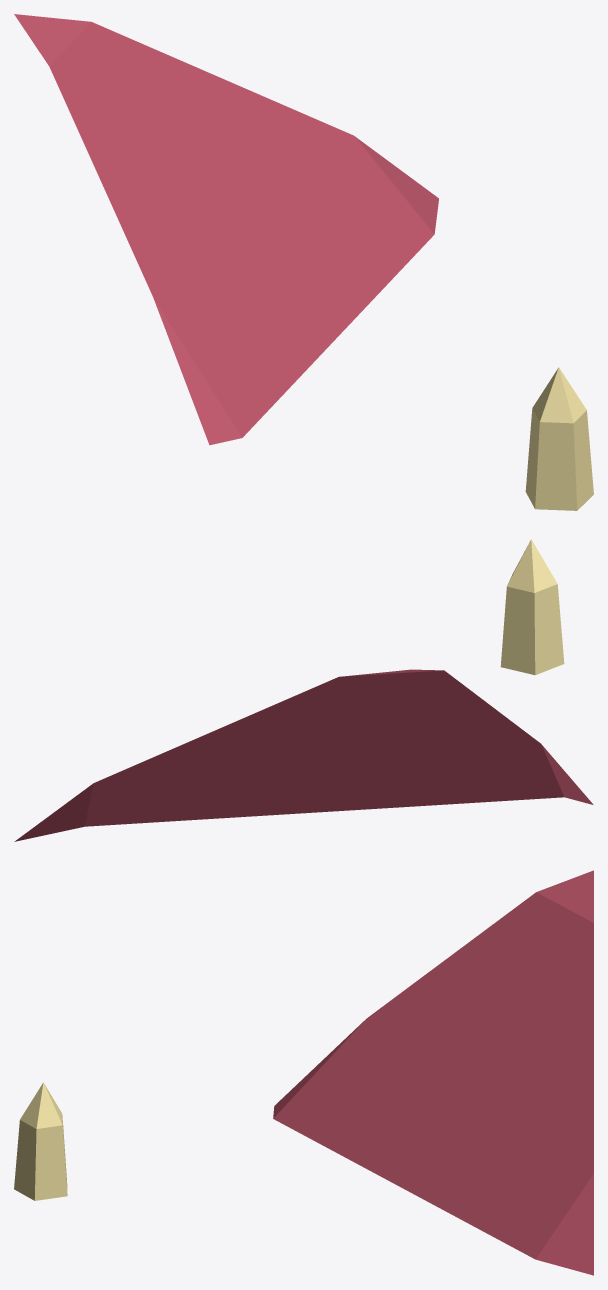
File: cell_118.obj
The picture shows the model from 3 angles, top to bottom: view 1: azimuth 30°, elevation 25°; view 2: azimuth 150°, elevation 25°; view 3: azimuth 270°, elevation 25°; orthographic projection. The views are drawn at different scales.
Size of the model in its own units: 0.5105 by 0.3307 by 0.7375.
